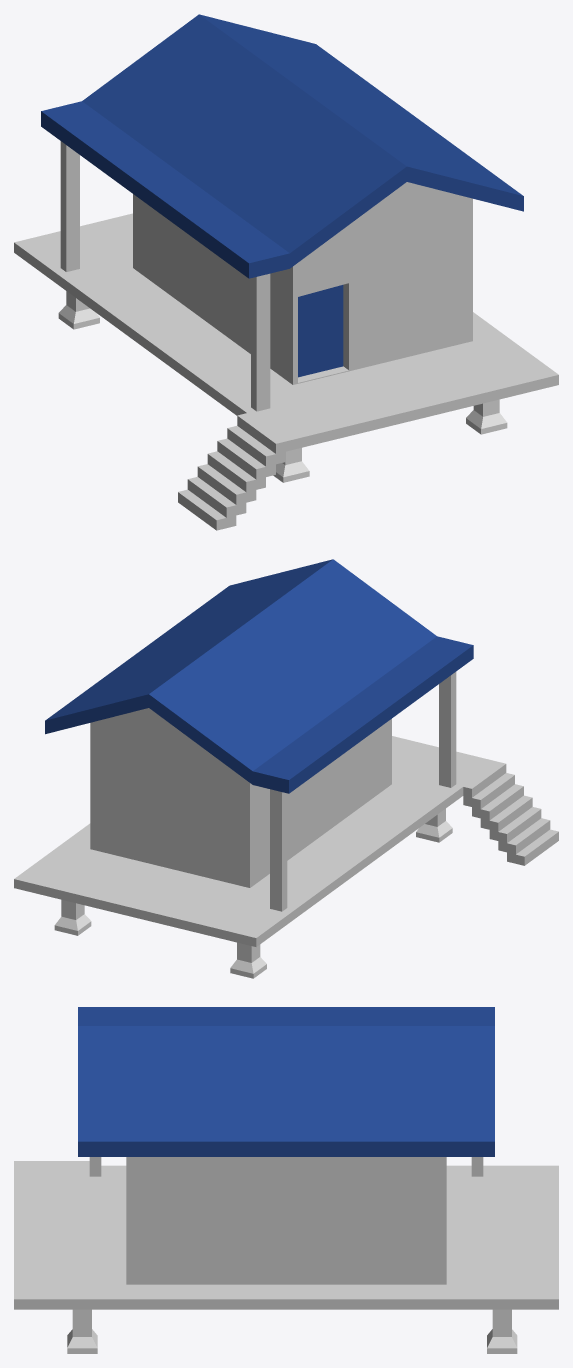
Rendered from Rumah Warga 2.fbx.
3 views of the same model, one above another, from view 1: azimuth 30°, elevation 25°; view 2: azimuth 150°, elevation 25°; view 3: azimuth 270°, elevation 25° (orthographic). The views are drawn at different scales.
Parts seen in each view (by area): view 1: pondasi.019; view 2: pondasi.019; view 3: pondasi.019.
Boxes of the visible parts, x1,y1,x2,y2 form: pondasi.019: (14, 14, 558, 530); pondasi.019: (14, 559, 558, 978); pondasi.019: (14, 1007, 558, 1353).
Bounding box in the file's own units: 1038 × 830 × 1428.
